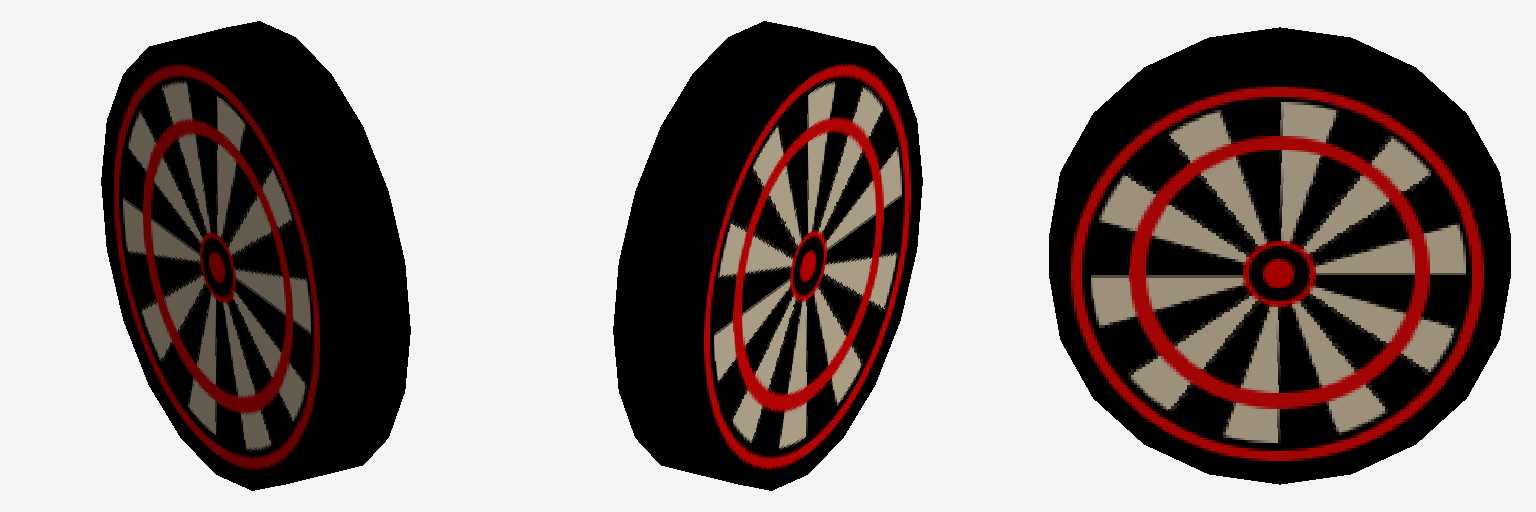
3 views of the same model, side by side, from view 1: azimuth 30°, elevation 25°; view 2: azimuth 150°, elevation 25°; view 3: azimuth 270°, elevation 25° (orthographic).
Parts seen in each view (by area): view 1: pCylinder1; view 2: pCylinder1; view 3: pCylinder1.
Part boxes in pixels (x1,y1,x2,y2): pCylinder1: (101, 21, 410, 490); pCylinder1: (613, 21, 922, 490); pCylinder1: (1049, 27, 1510, 484).
Bounding box in the file's own units: 3.2 × 16.26 × 16.26.
1 materials, 1 textured.